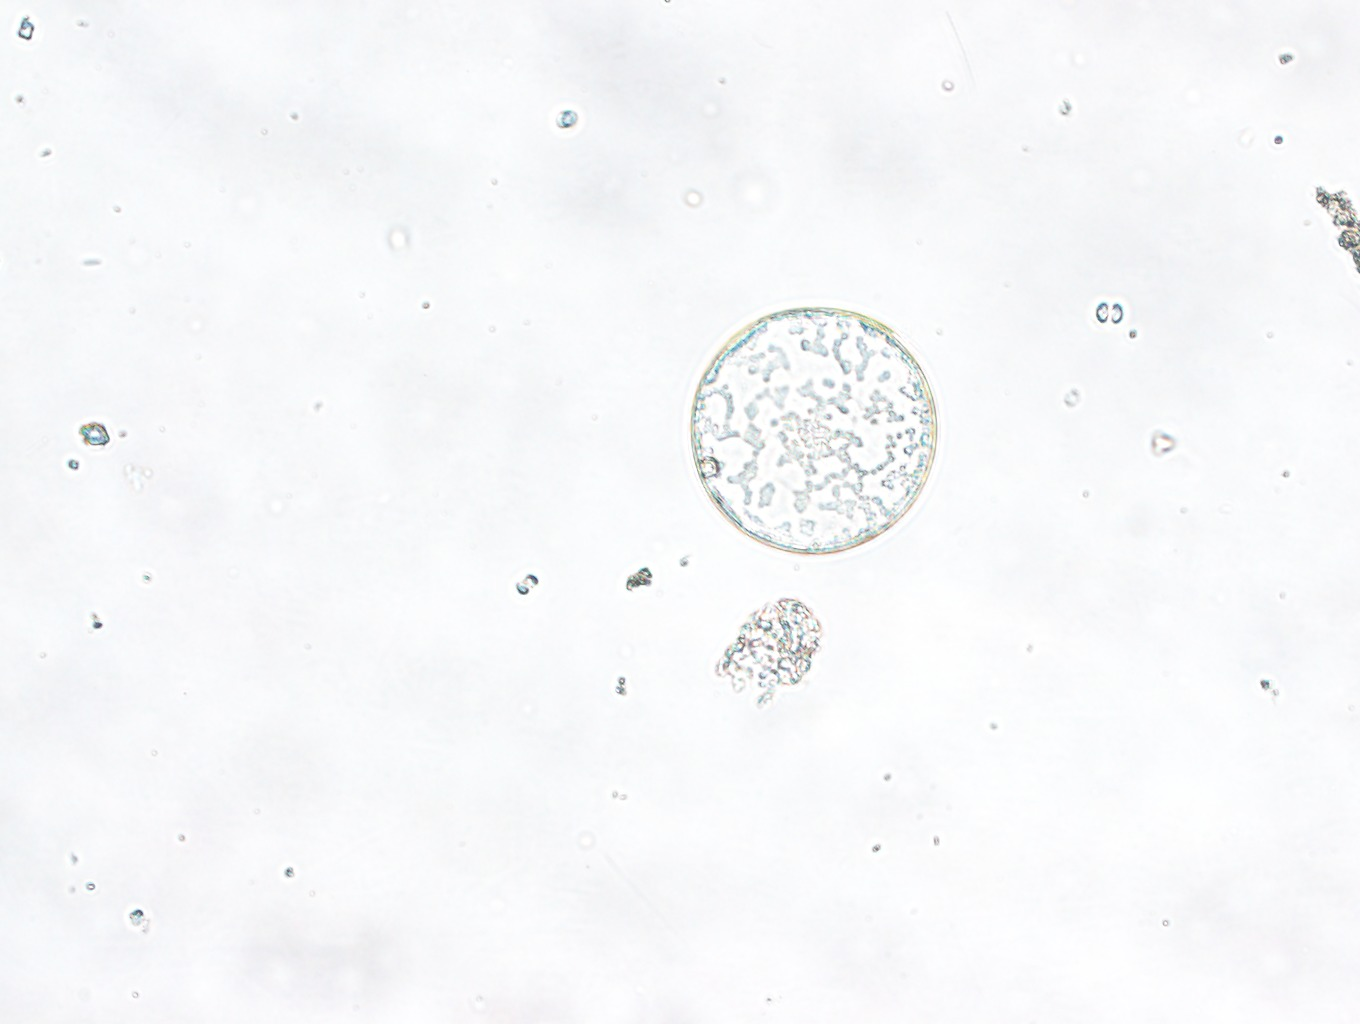coscinodiscus: (689, 305, 937, 557)
